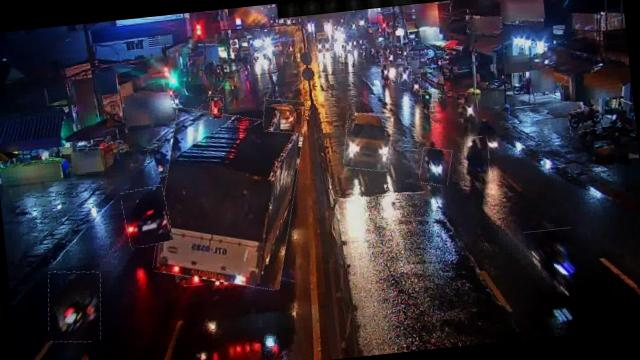Bike: (44, 268, 106, 345), (522, 228, 578, 304), (418, 146, 453, 188), (464, 136, 492, 183), (148, 144, 174, 178), (568, 107, 602, 133), (459, 91, 479, 123), (208, 95, 225, 120), (398, 66, 414, 89), (378, 62, 392, 85), (420, 90, 433, 113), (408, 76, 422, 97)
Car: (341, 109, 396, 174), (121, 185, 173, 248), (261, 97, 307, 136)
Truck: (146, 102, 311, 295)
